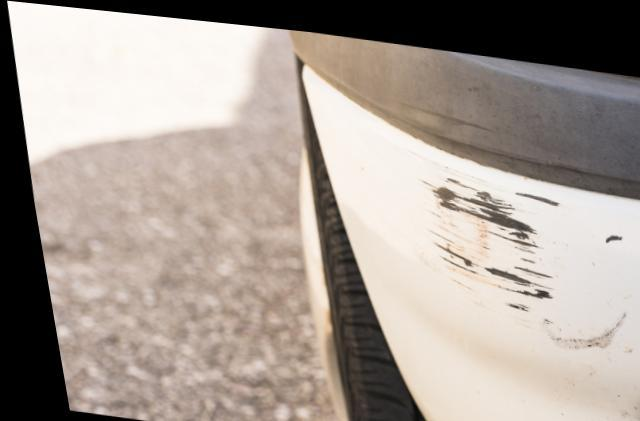scratch: (413, 159, 620, 342)
